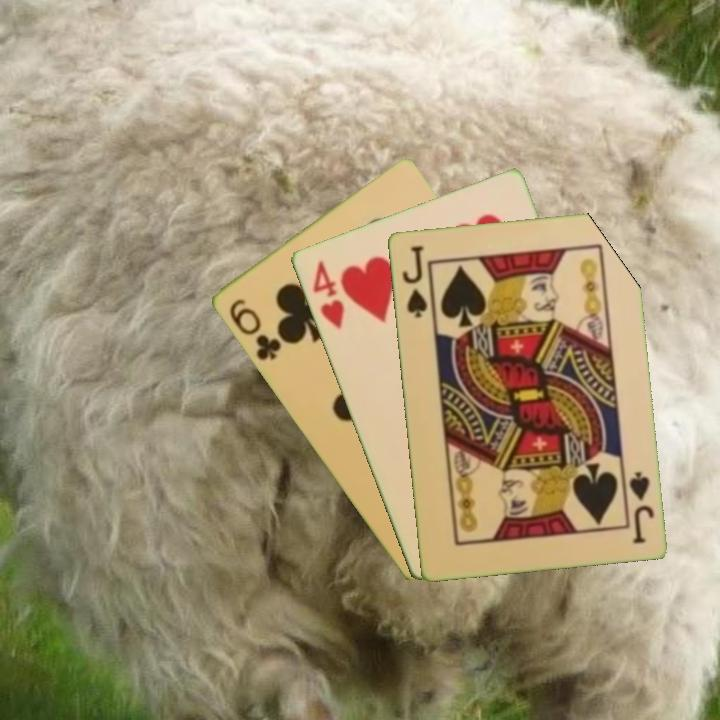4h: (308, 256, 347, 333)
6c: (225, 295, 284, 364)
Js: (625, 467, 657, 546), (398, 242, 430, 320)
